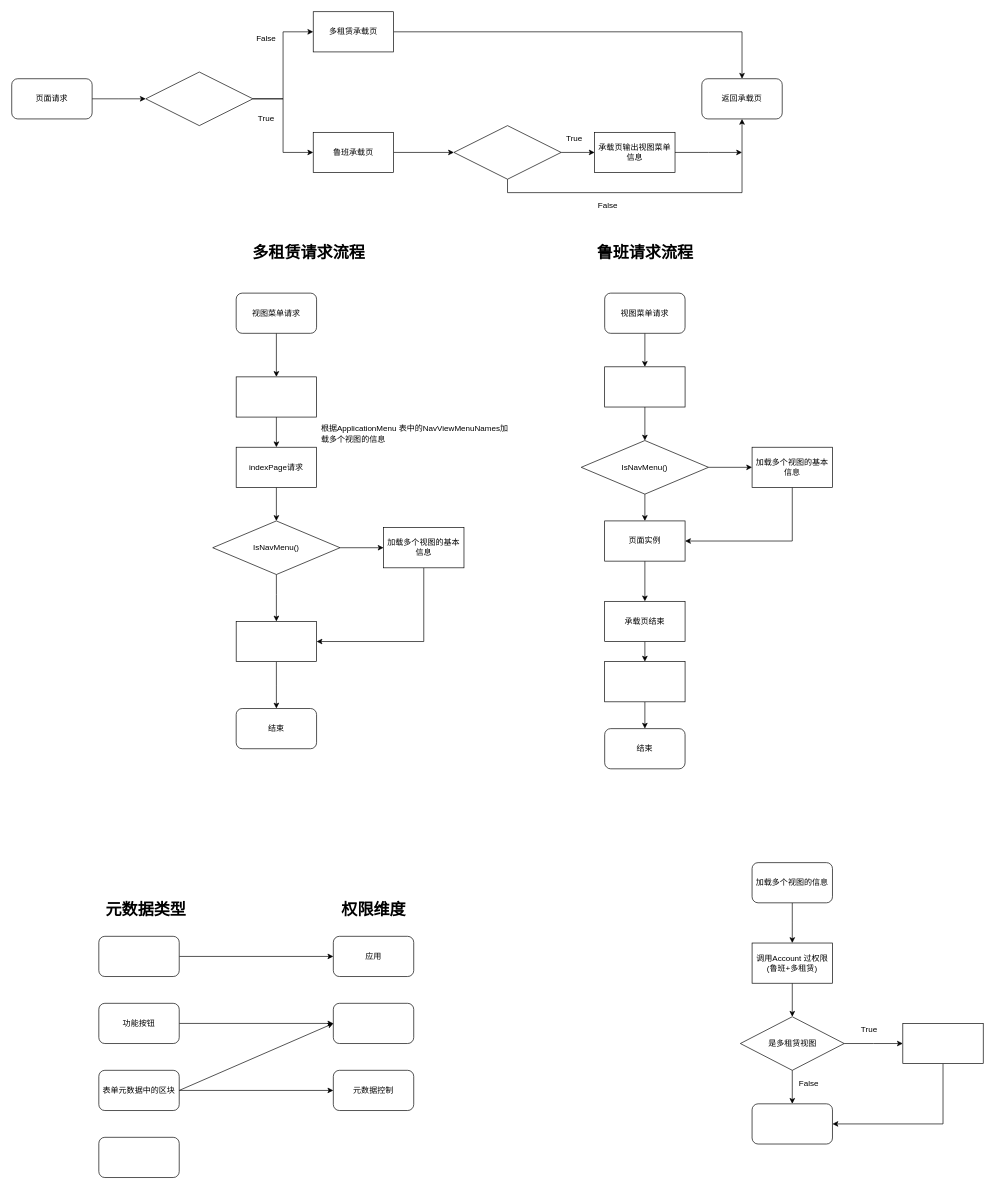
The diagram is 995 pixels wide and 1189 high, and some of its shapes have lost their labels. The centre of each missing label's shape, as x and y in pixels:
"KeyName=Nusion" goes at [199,98].
"Url中是否有视图菜单ID" goes at [507,152].
"其他类型" goes at [138,1157].
"前端组件" goes at [138,956].
"加载IndexPage" goes at [276,641].
"加载承载页" goes at [276,396].
"开始加载承载页" goes at [644,386].
"查询实体下是否有此视图" goes at [942,1043].
"身份" goes at [373,1023].
"返回" goes at [791,1123].
"页面数据" goes at [644,681].
